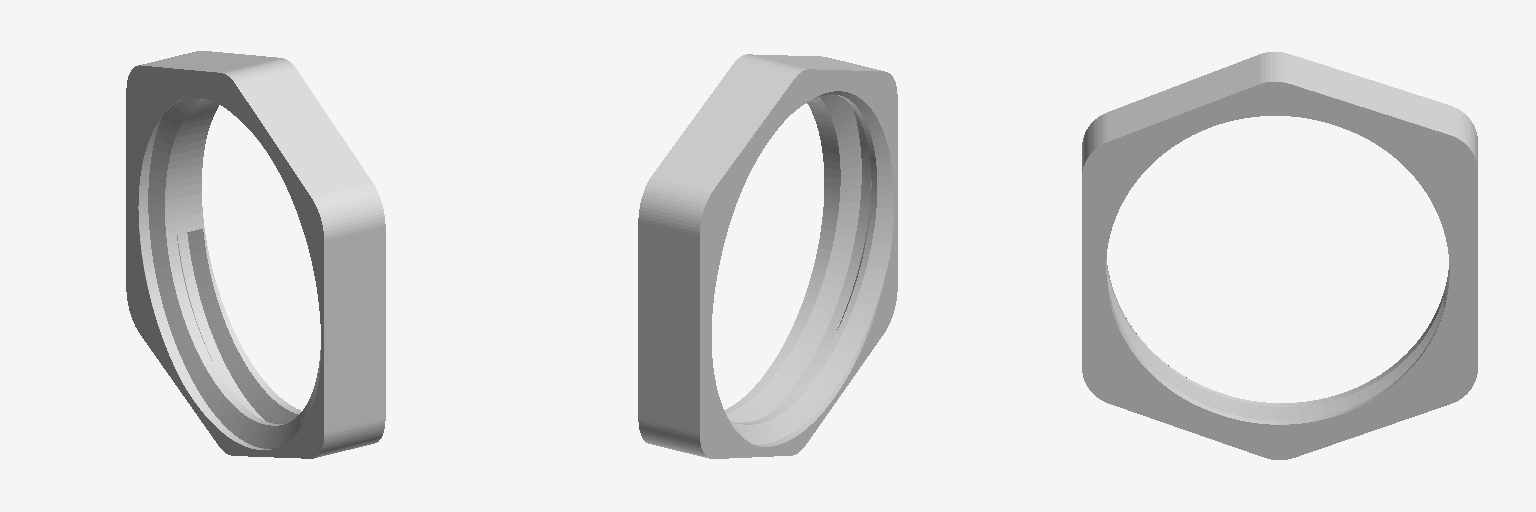
File: nut1.obj
3 views of the same model, side by side, from view 1: azimuth 30°, elevation 25°; view 2: azimuth 150°, elevation 25°; view 3: azimuth 270°, elevation 25° (orthographic).
Parts seen in each view (by area): view 1: nut1; view 2: nut1; view 3: nut1.
Part boxes in pixels (bbox=[...]): nut1: bbox=[126, 51, 385, 458]; nut1: bbox=[638, 54, 897, 458]; nut1: bbox=[1082, 52, 1477, 459].
Size of the model in its own units: 5 by 29.56 by 28.